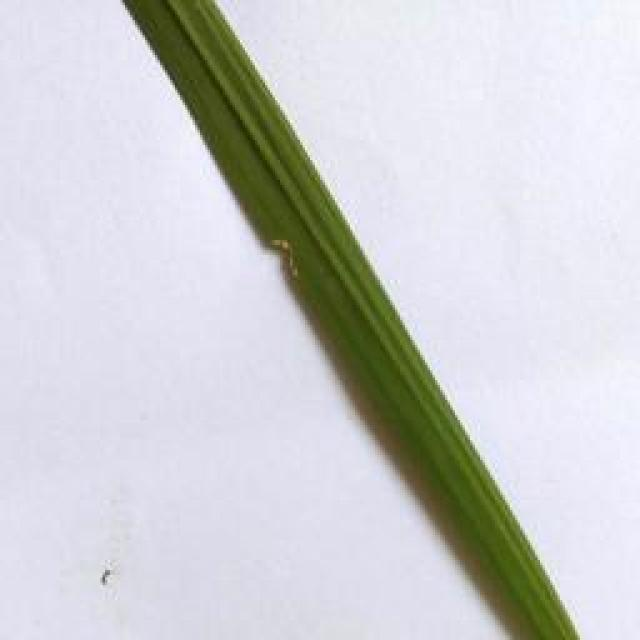Healthy-Plant: (118, 0, 587, 640)
